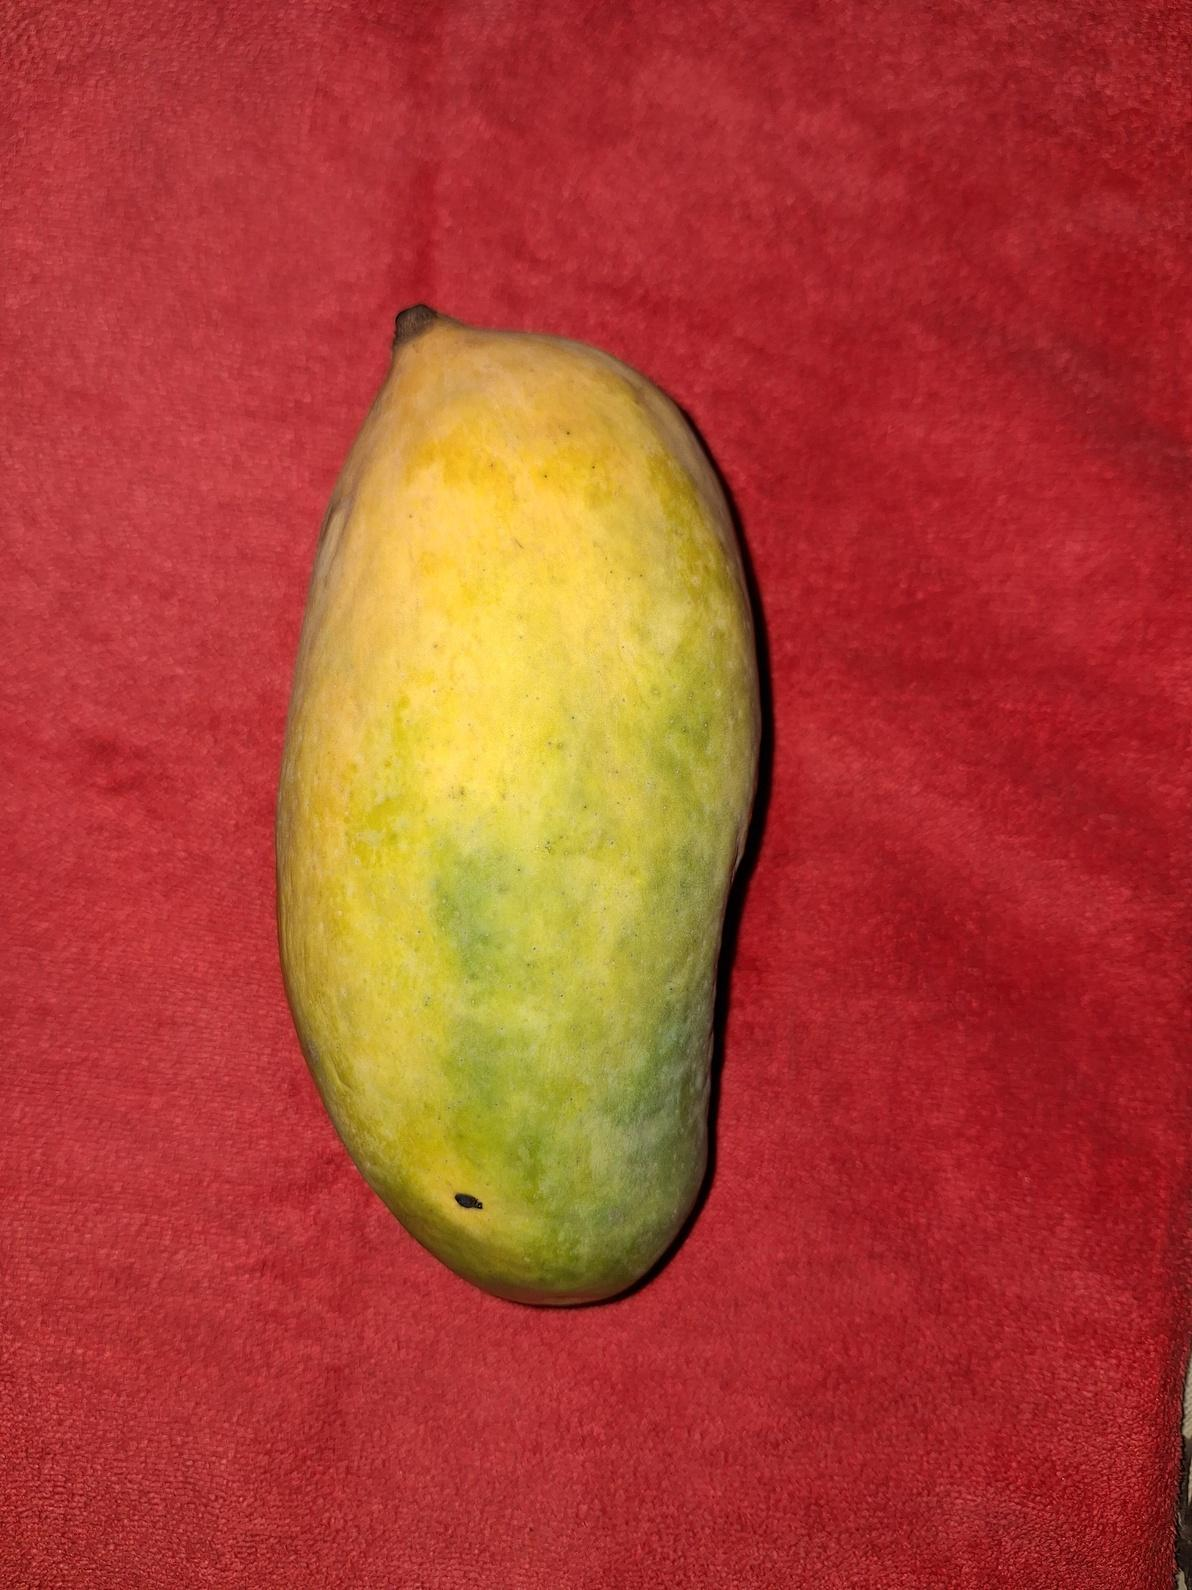mango: (273, 300, 763, 1307)
